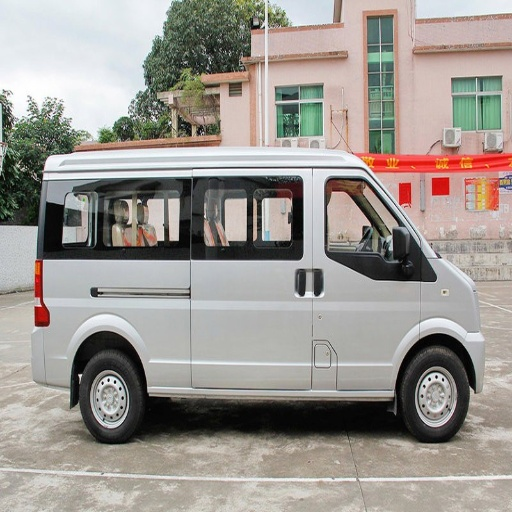trunk: (40, 263, 285, 389)
